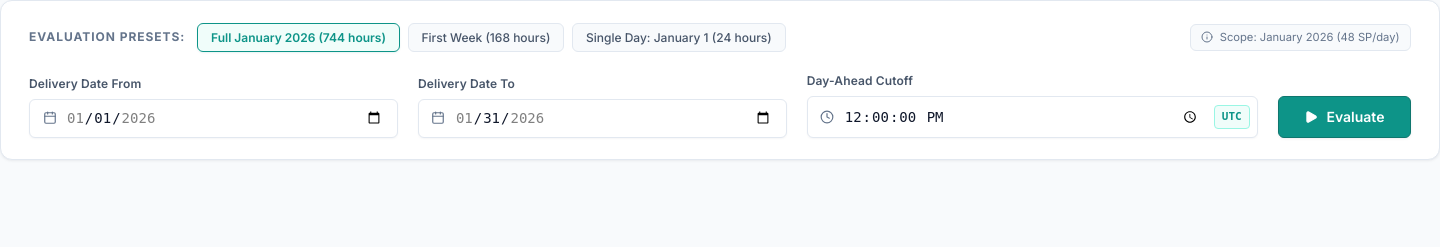
Controls Component › displays validation error when cutoff time has invalid format
The image size is (1440, 247).
Replace the text in the time field labelled "Day-Ahead Cutoff" with "invalid-time": (1032, 117) [807, 96, 1258, 138]
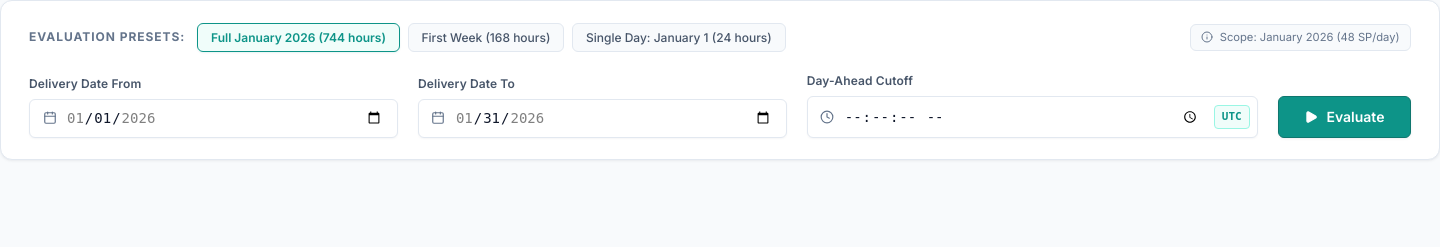
Click the button "Evaluate": (1344, 117) [1278, 96, 1411, 138]
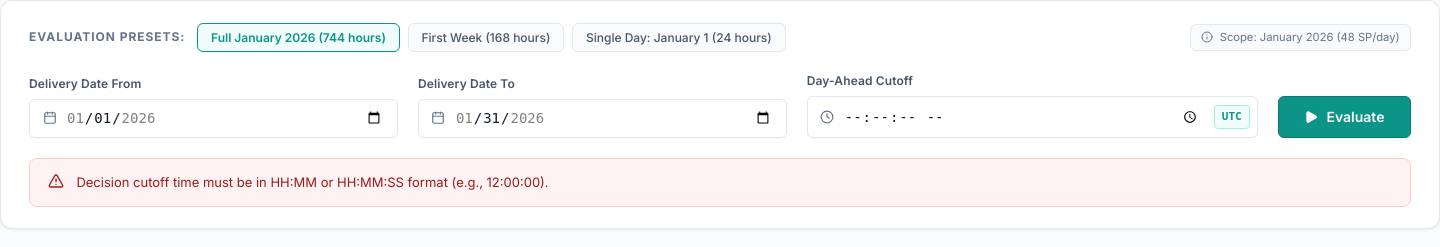
Now the message shows "Decision cutoff time must be in HH:MM or HH:MM:SS format", box [76, 174, 549, 190]
